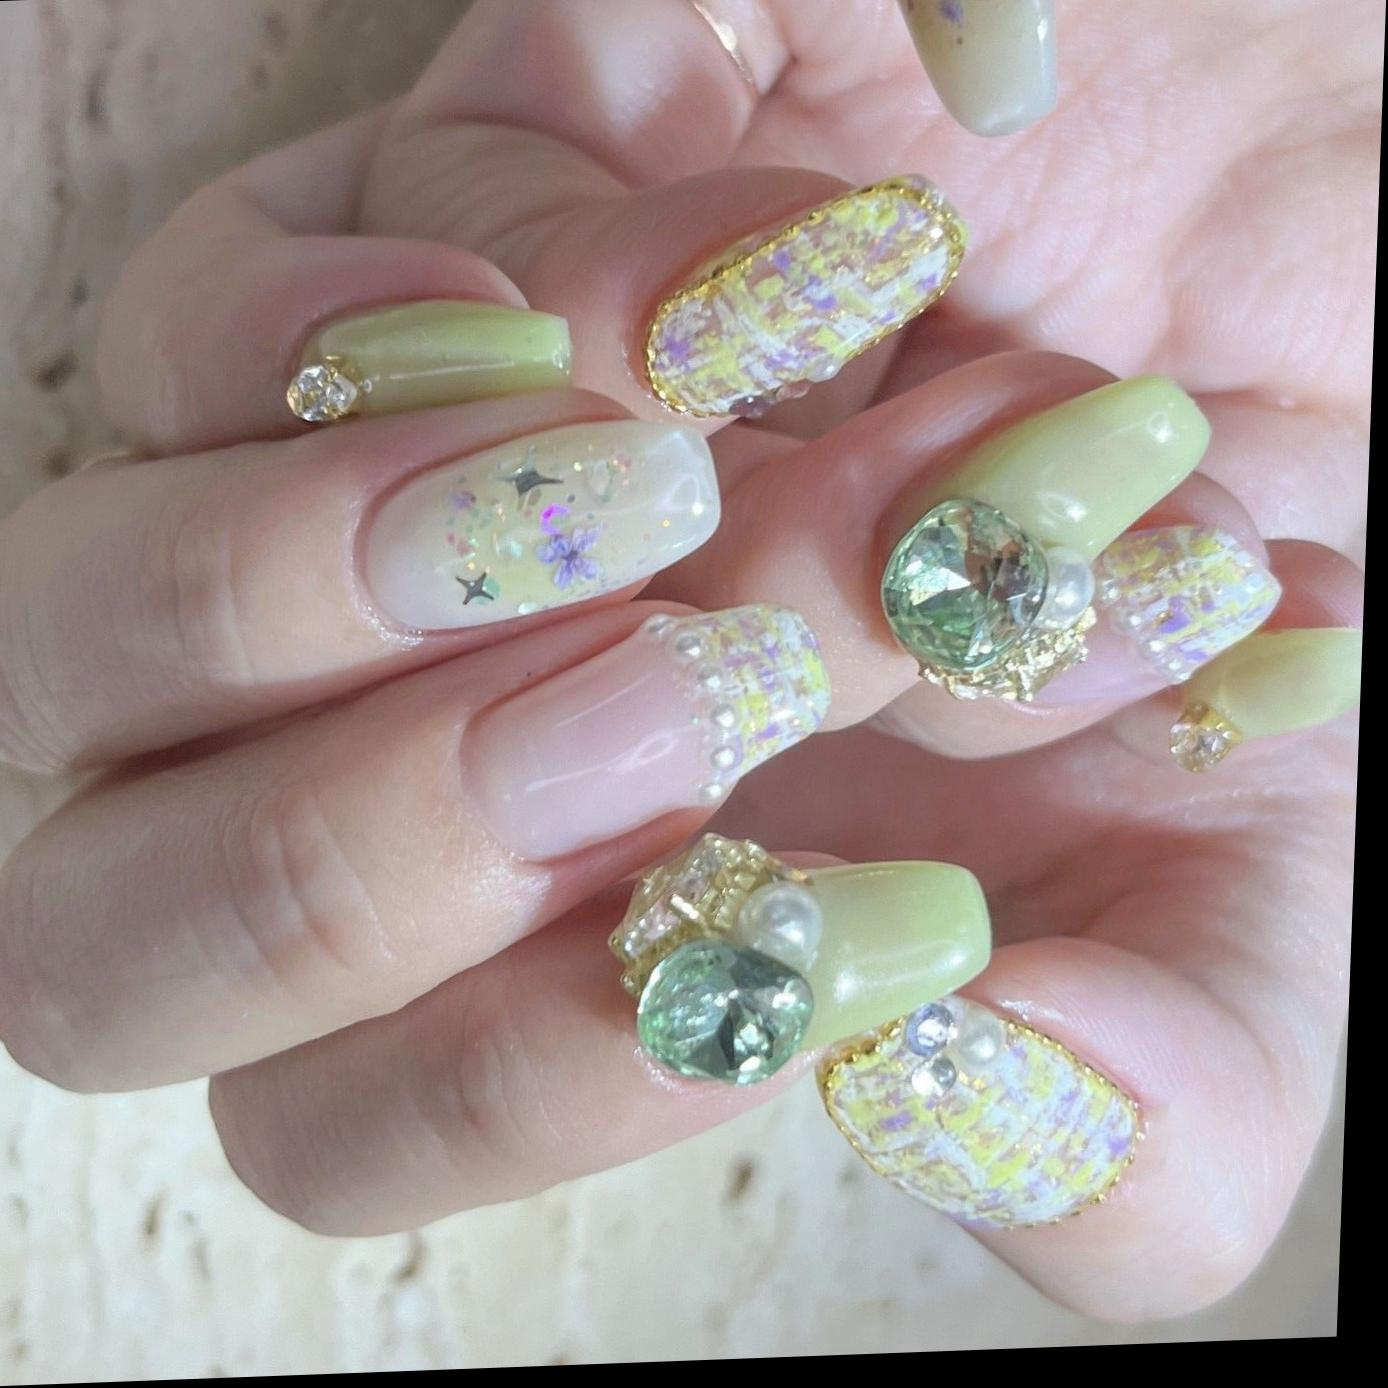nail: (603, 819, 1000, 1092), (457, 597, 837, 865), (812, 983, 1154, 1236), (638, 168, 972, 422), (358, 411, 728, 636), (284, 291, 578, 425), (866, 0, 1067, 141)
